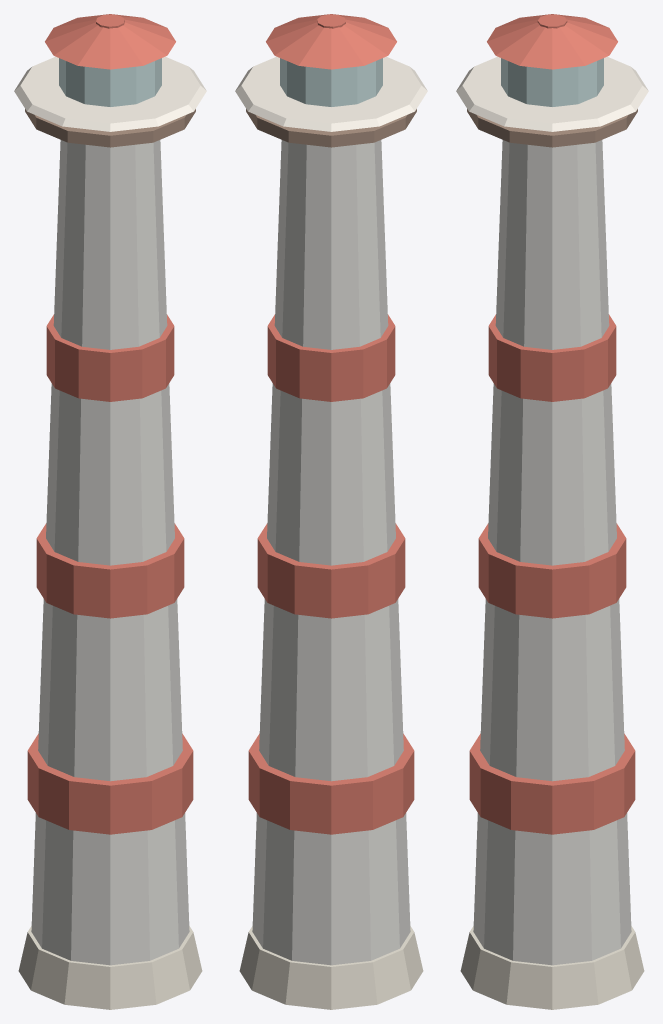
File: lighthouse_far-CpJgQAUc.glb
3 renders of one model, left to right at view 1: azimuth 30°, elevation 25°; view 2: azimuth 150°, elevation 25°; view 3: azimuth 270°, elevation 25°, orthographic.
Visible parts, largest first — view 1: lighthouse_far; view 2: lighthouse_far; view 3: lighthouse_far.
Boxes of the visible parts, x1,y1,x2,y2 form: lighthouse_far: (14, 14, 206, 1009); lighthouse_far: (235, 14, 427, 1009); lighthouse_far: (456, 14, 648, 1009).
Size of the model in its own units: 10.7 by 58.2 by 10.7.
